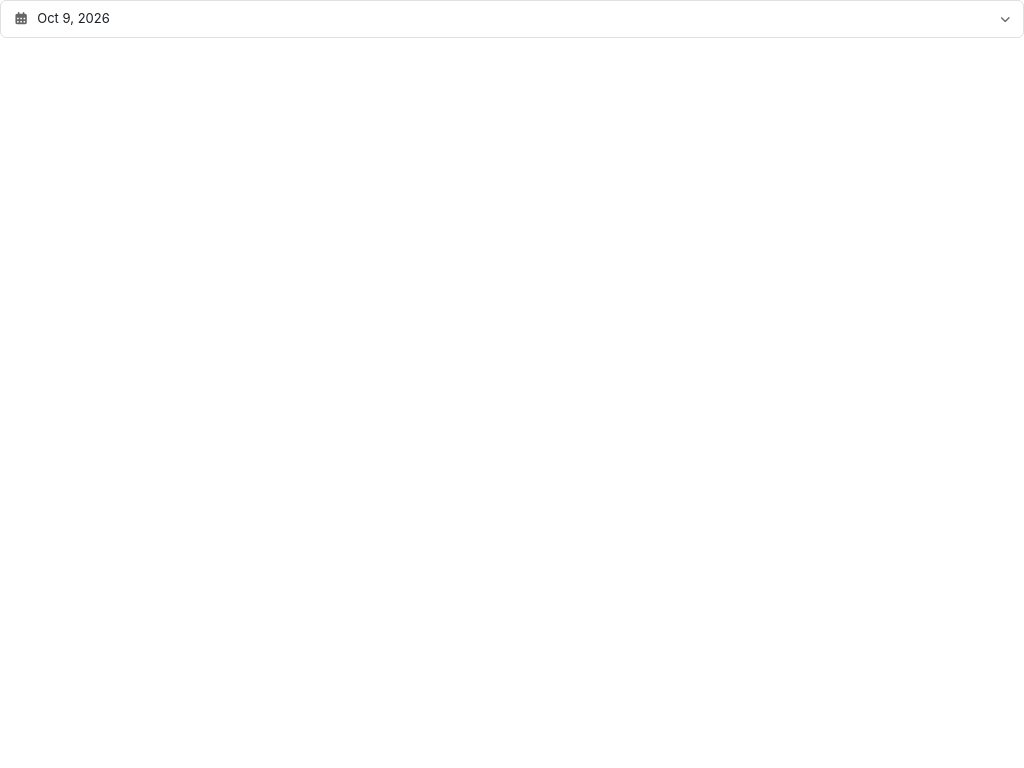
it: DatePicker › opens on the month of the value and marks the selected day
Click the button with class "dp-trigger" at (74, 18), box x1=0 y1=0 x2=1023 y2=38
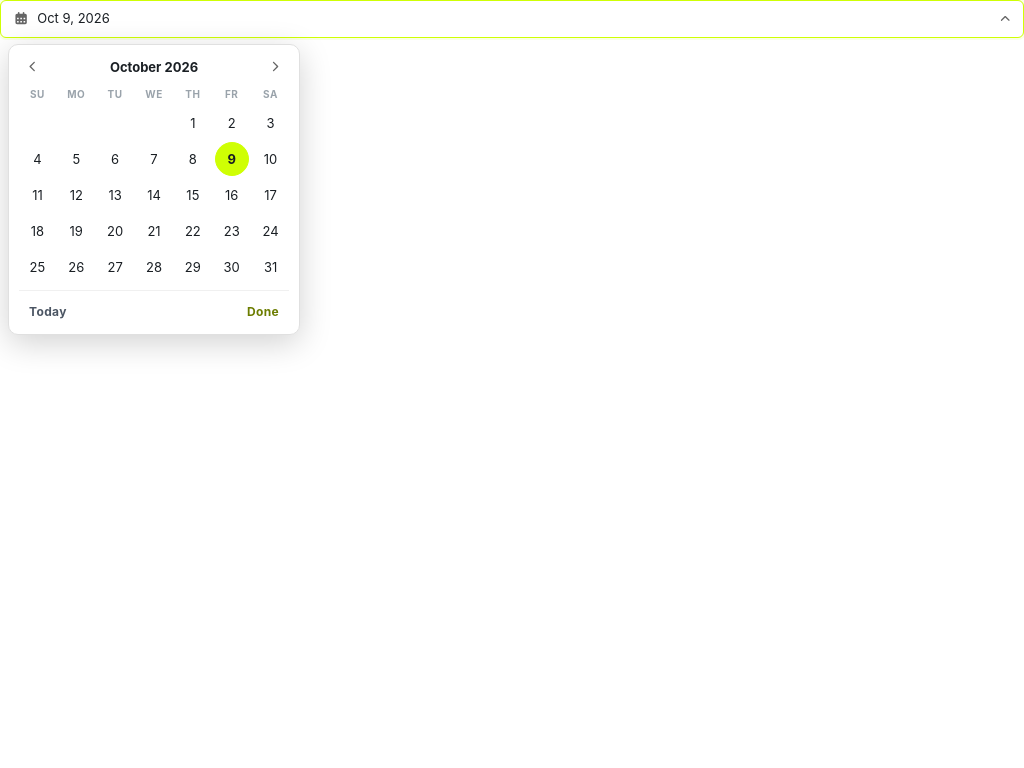
Now the button with aria-label "Choose month" reads "October 2026", box x1=51 y1=53 x2=257 y2=81
